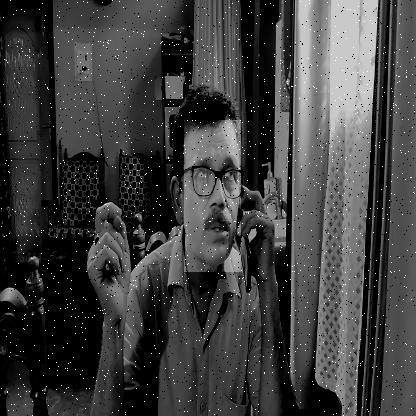Distracted: (184, 120, 241, 272)
